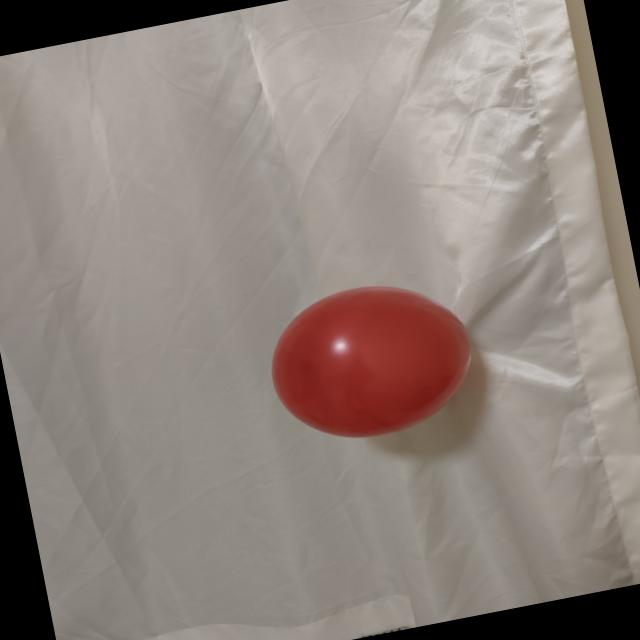balloon: (272, 287, 470, 437)
